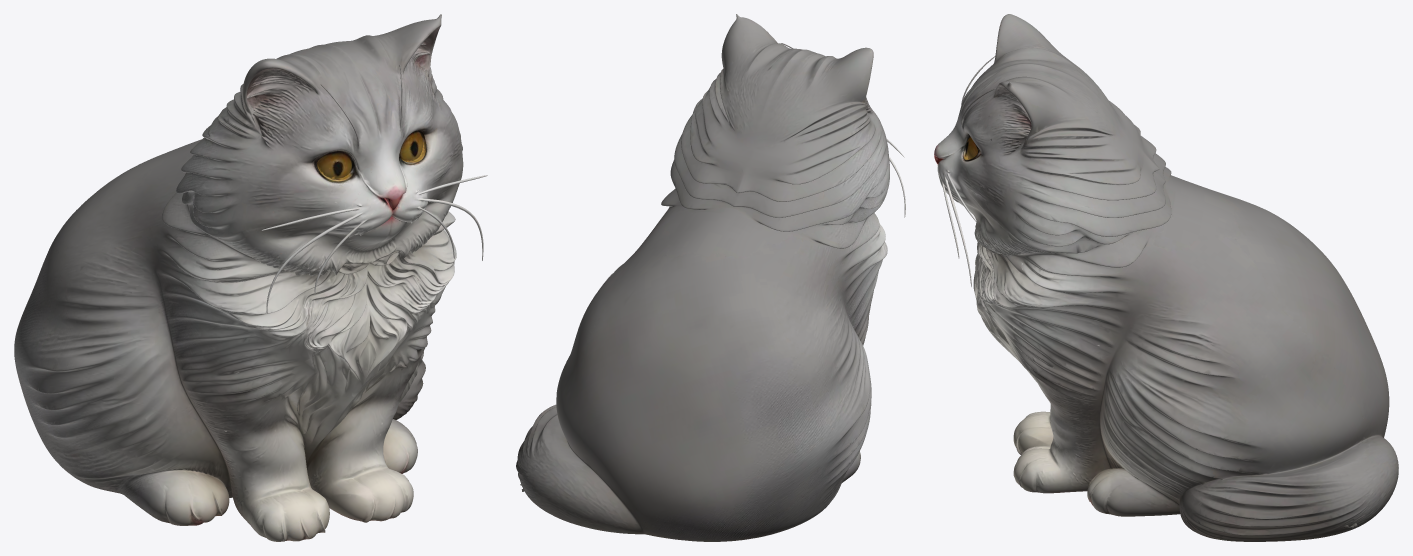
File: cat_3d_model.glb
The picture shows the model from 3 angles, left to right: view 1: azimuth 30°, elevation 25°; view 2: azimuth 150°, elevation 25°; view 3: azimuth 270°, elevation 25°; orthographic projection. The views are drawn at different scales.
Parts seen in each view (by area): view 1: node_0; view 2: node_0; view 3: node_0.
Boxes of the visible parts, x1,y1,x2,y2 form: node_0: (14, 14, 487, 541); node_0: (516, 14, 905, 541); node_0: (934, 14, 1398, 541).
Size of the model in its own units: 0.6953 by 0.8458 by 0.8434.
Materials: 1 (1 with a texture image).
